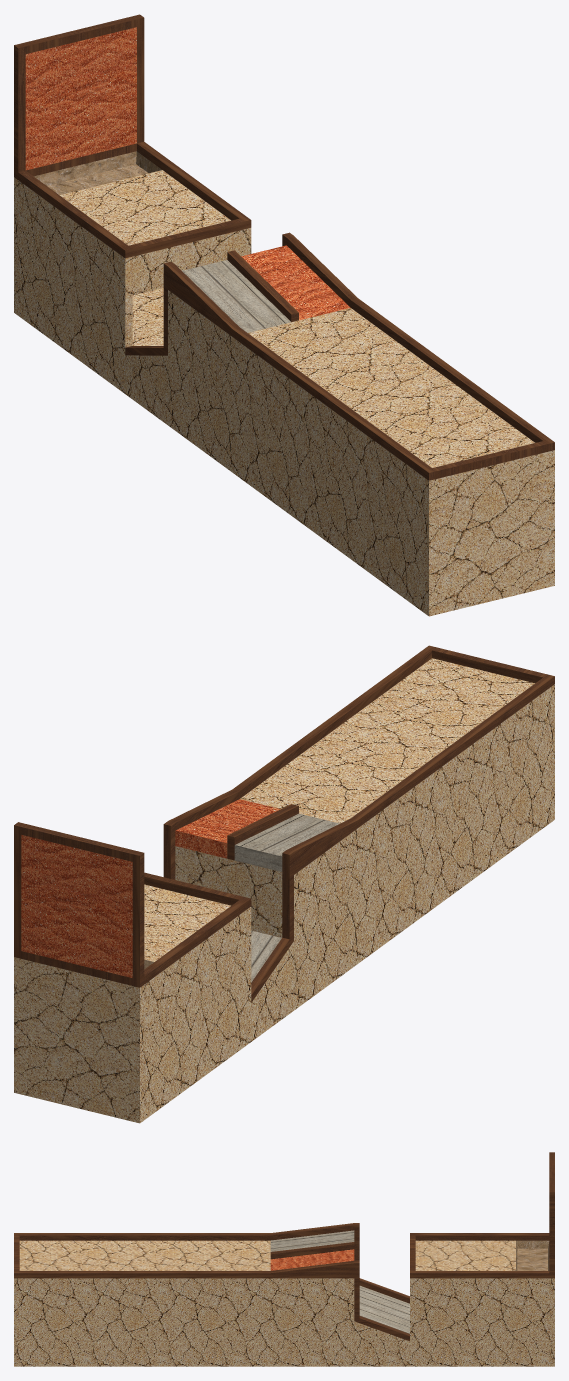
The model's file is Stage2-03.gltf.
3 views of the same model, one above another, from view 1: azimuth 30°, elevation 25°; view 2: azimuth 150°, elevation 25°; view 3: azimuth 270°, elevation 25° (orthographic). The views are drawn at different scales.
Parts seen in each view (by area): view 1: Cube; view 2: Cube; view 3: Cube.
Part boxes in pixels (box(x1,y1,x2,y2)): Cube: box(14, 14, 554, 616); Cube: box(14, 645, 554, 1123); Cube: box(14, 1152, 554, 1366).
Size of the model in its own units: 3.4 by 6.9 by 19.4.
Materials: 10 (10 with a texture image).
